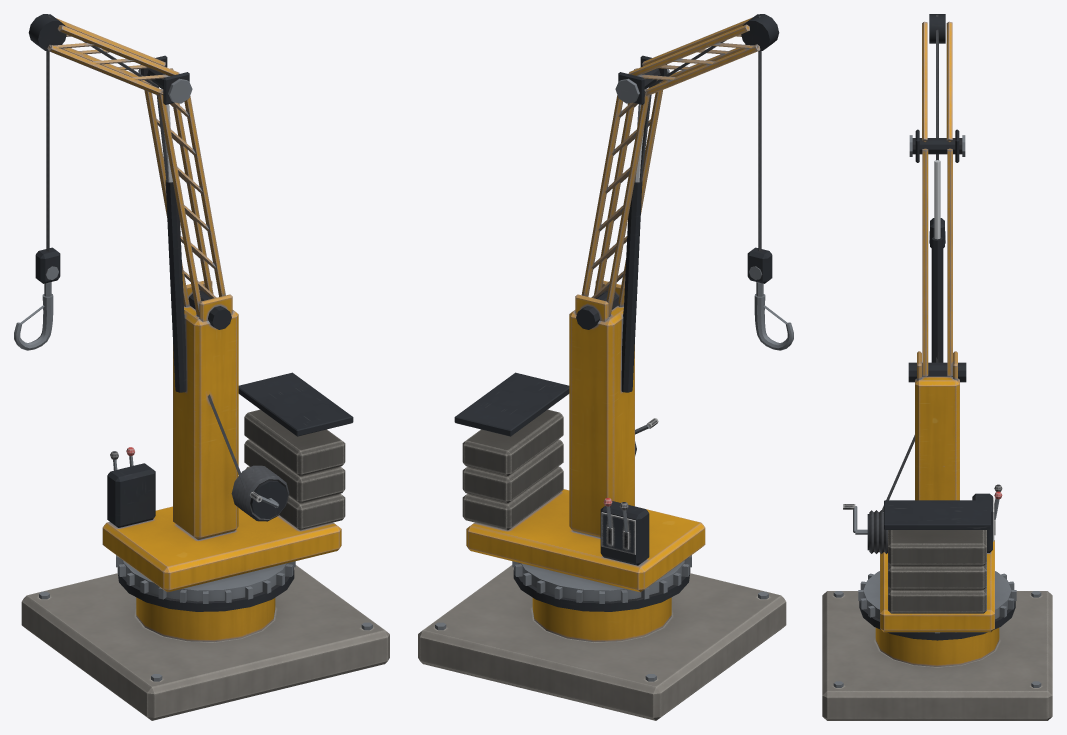
The model's file is grua_carga.fbx.
The picture shows the model from 3 angles, left to right: view 1: azimuth 30°, elevation 25°; view 2: azimuth 150°, elevation 25°; view 3: azimuth 270°, elevation 25°; orthographic projection. The views are drawn at different scales.
Parts seen in each view (by area): view 1: grua_carga_giratoria, grua_carga, grua_carga_gancho; view 2: grua_carga_giratoria, grua_carga, grua_carga_gancho; view 3: grua_carga_giratoria, grua_carga.
Part boxes in pixels (box(x1,y1,x2,y2)): grua_carga_giratoria: box(28, 14, 353, 603); grua_carga: box(21, 565, 389, 720); grua_carga_gancho: box(14, 51, 60, 350); grua_carga_giratoria: box(454, 14, 779, 603); grua_carga: box(418, 565, 786, 720); grua_carga_gancho: box(747, 51, 793, 350); grua_carga_giratoria: box(843, 14, 1016, 633); grua_carga: box(822, 591, 1052, 720).
Bounding box in the file's own units: 3.86 × 7.89 × 2.8.
1 material, 1 textured.
